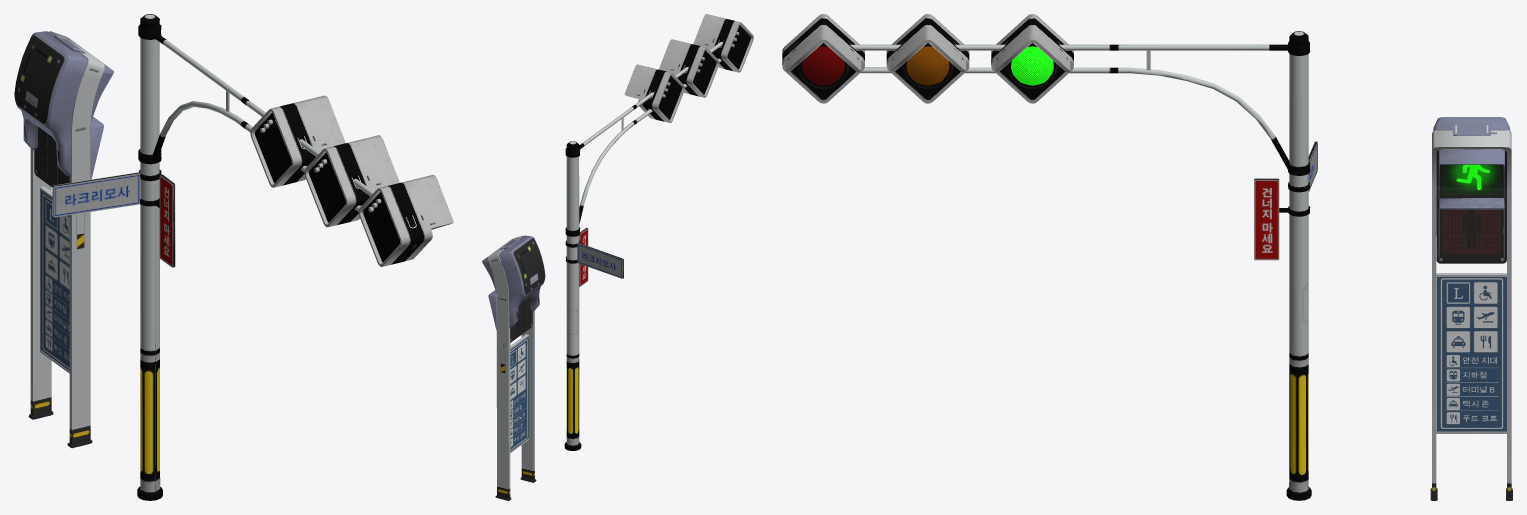
File: traffic_lights_street_assets_vol_02.glb
The picture shows the model from 3 angles, left to right: view 1: azimuth 30°, elevation 25°; view 2: azimuth 150°, elevation 25°; view 3: azimuth 270°, elevation 25°; orthographic projection. The views are drawn at different scales.
Parts seen in each view (by area): view 1: traffic_lights_street_assets_vol_02.001; view 2: traffic_lights_street_assets_vol_02.001; view 3: traffic_lights_street_assets_vol_02.001.
Part boxes in pixels (x1=…): traffic_lights_street_assets_vol_02.001: x1=14, y1=14, x2=453, y2=500; traffic_lights_street_assets_vol_02.001: x1=482, y1=14, x2=753, y2=500; traffic_lights_street_assets_vol_02.001: x1=782, y1=14, x2=1512, y2=500.
Size of the model in its own units: 0.9454 by 3.51 by 4.89.
Materials: 2 (2 with a texture image).
